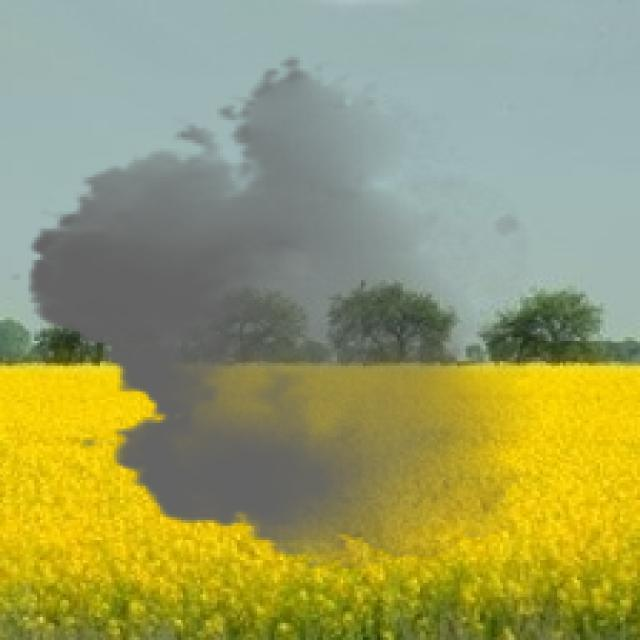Smoke: (8, 54, 546, 569)
